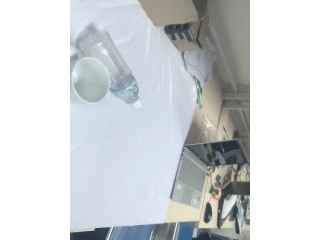bottle: (77, 28, 142, 109)
box: (133, 1, 208, 26)
cup: (70, 57, 110, 104)
